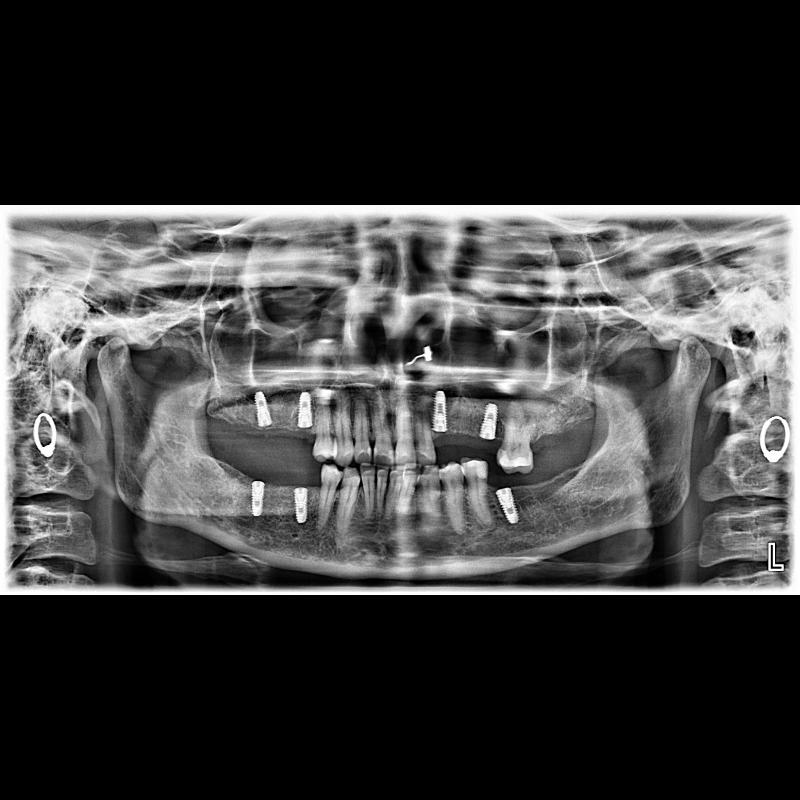osstem: (284, 488, 318, 526), (424, 389, 452, 433), (251, 392, 277, 432), (491, 487, 519, 523), (296, 388, 316, 430), (478, 401, 498, 442), (249, 478, 268, 518)
